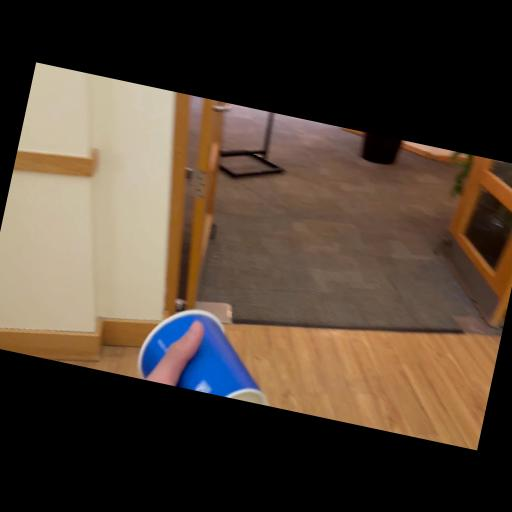lp_paper_cup: (134, 296, 286, 405)
